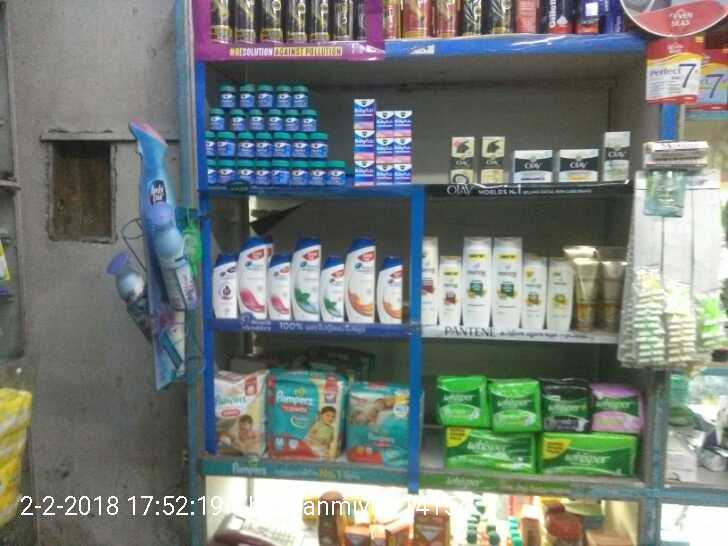vicks: (203, 78, 346, 184), (358, 94, 412, 181)
